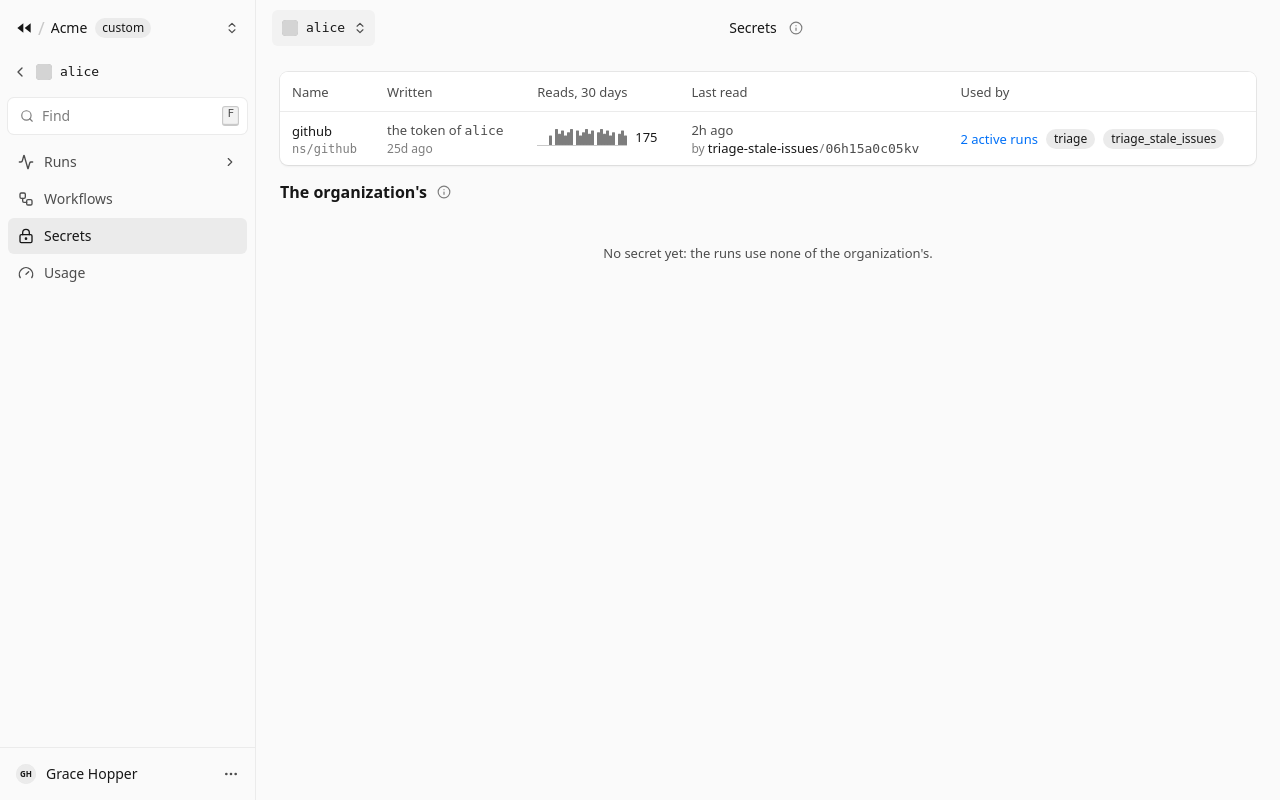
Test case: a namespace's secrets › never offers a grant limited to labels to write an end user's secret
expect the text "ns/github" is shown: met, box [292,140,357,156]
Note: Why, in the card of the (i) beside the page's title.
Click the button named "About Secrets". click: (796, 28)
box: [785,16,807,38]
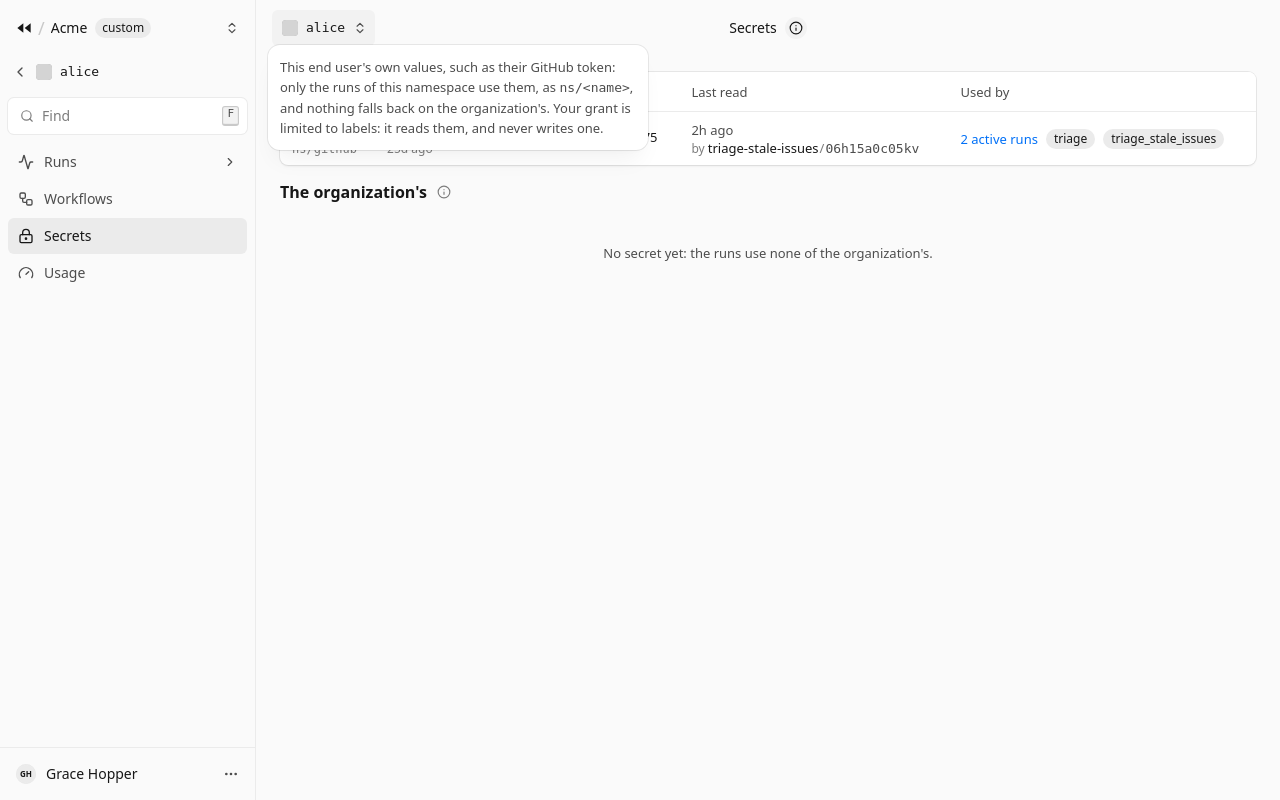
expect the text "Your grant is limited to labels" is shown: met, box [280,99,631,137]
